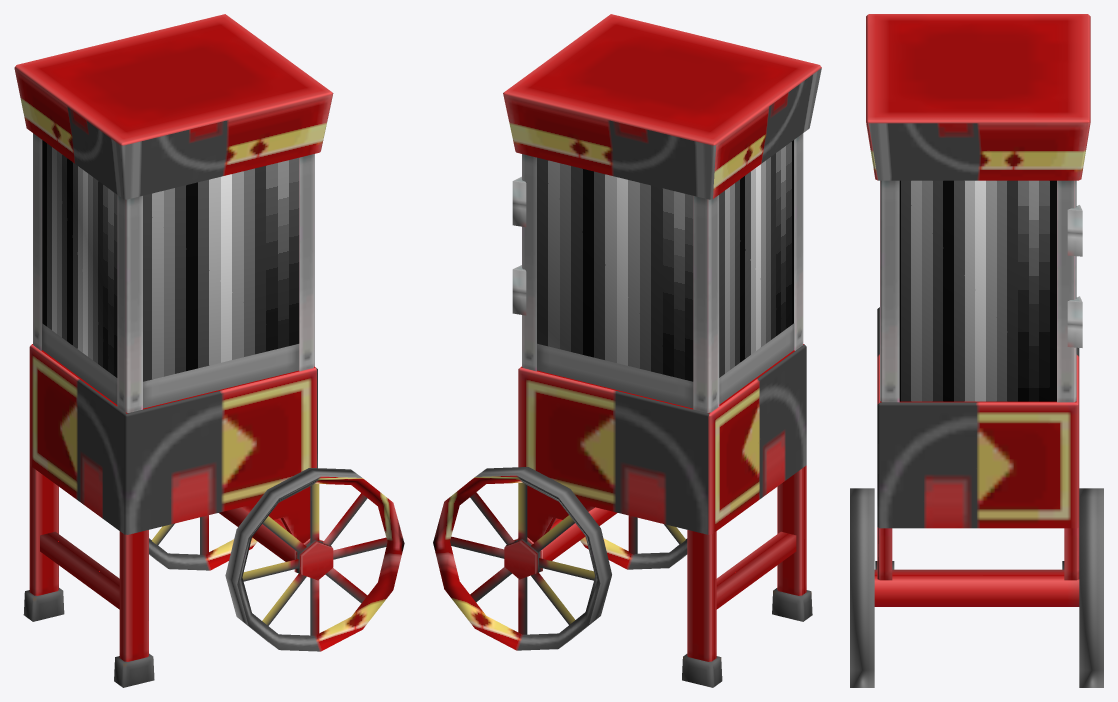
Rendered from int_oth_popcorn.dae.
The picture shows the model from 3 angles, left to right: view 1: azimuth 30°, elevation 25°; view 2: azimuth 150°, elevation 25°; view 3: azimuth 270°, elevation 25°; orthographic projection. The views are drawn at different scales.
Parts seen in each view (by area): view 1: int_oth_popcorn; view 2: int_oth_popcorn; view 3: int_oth_popcorn.
Part boxes in pixels (<box>): int_oth_popcorn: <box>14,14,404,687</box>; int_oth_popcorn: <box>433,14,821,687</box>; int_oth_popcorn: <box>850,14,1103,687</box>.
Size of the model in its own units: 30.17 by 57.46 by 23.24.
2 materials, 2 textured.
